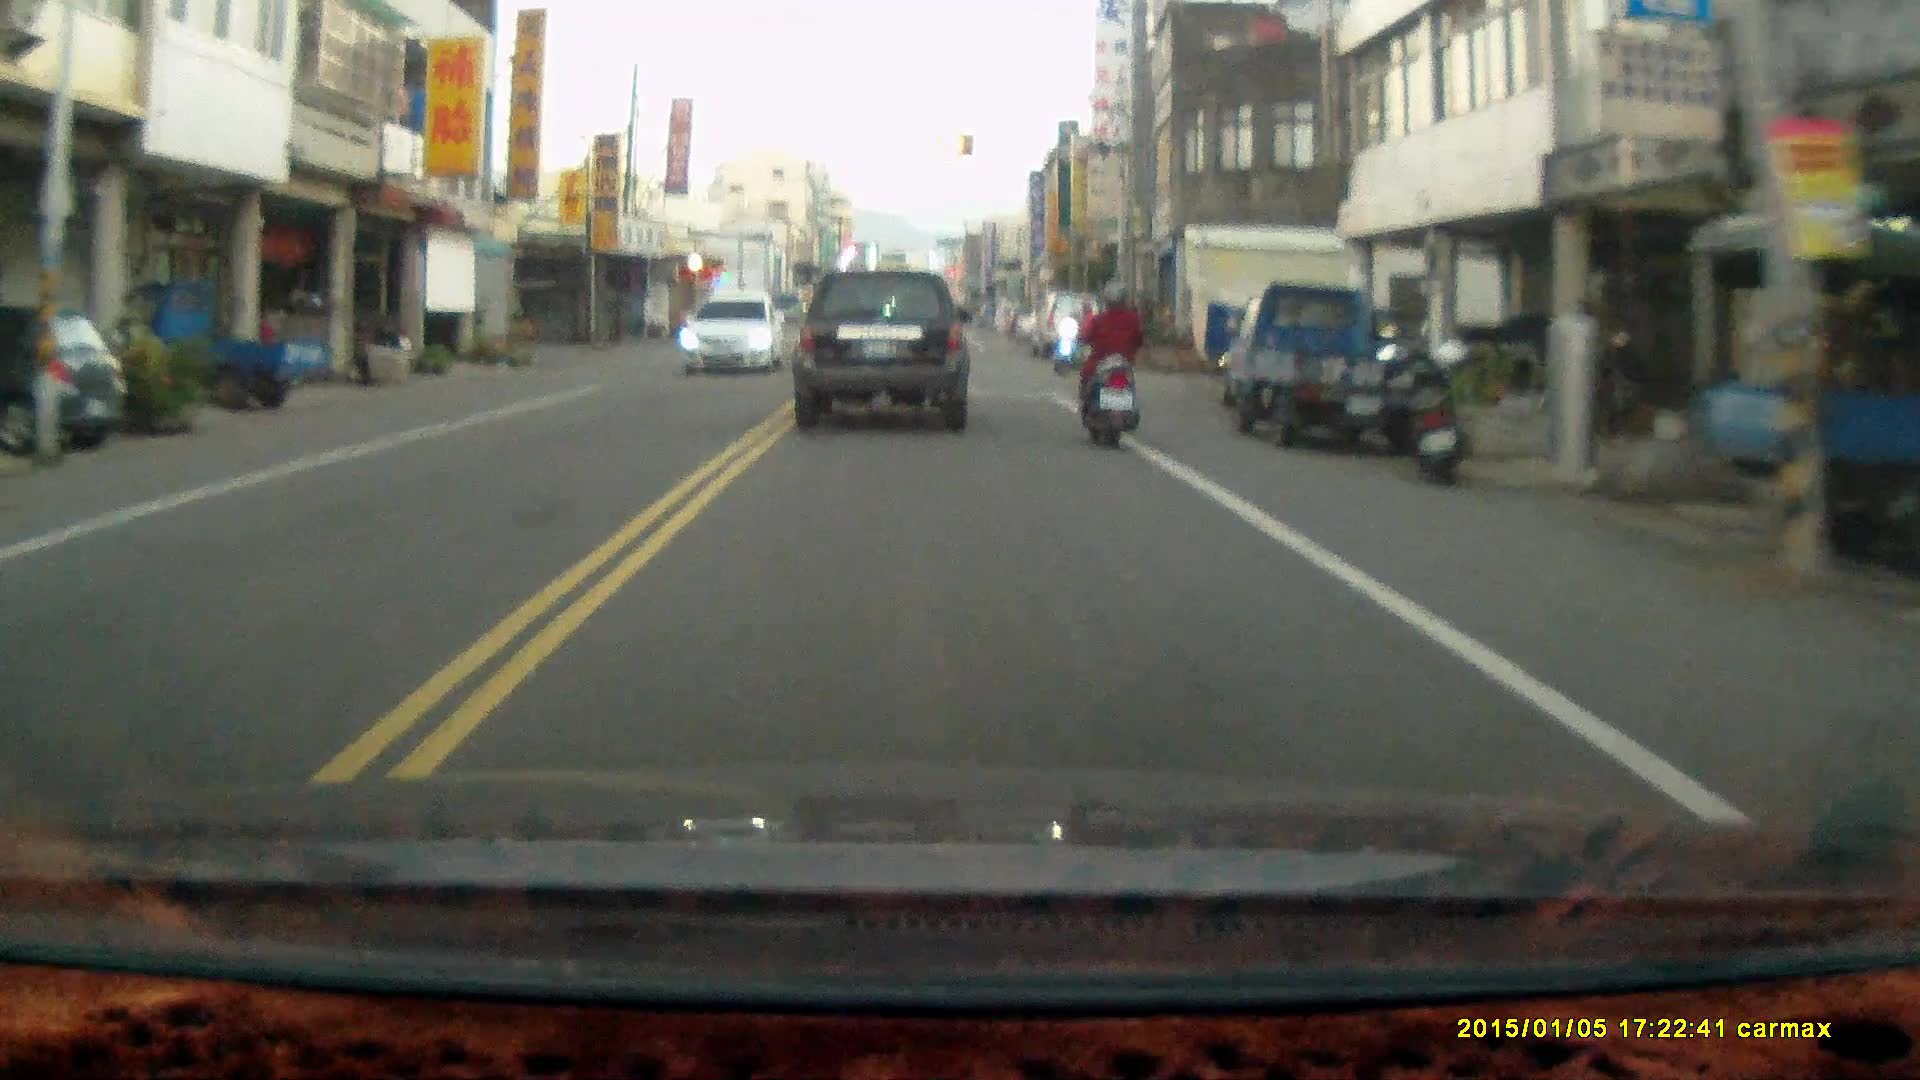rider: (1078, 276, 1141, 448), (1051, 297, 1102, 370)
vehicle: (1227, 284, 1448, 452), (100, 274, 336, 407), (794, 267, 973, 434), (1, 303, 126, 450), (678, 289, 787, 375), (1032, 290, 1110, 358)
